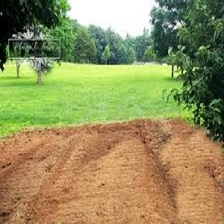clay_soil: (8, 110, 210, 216)
